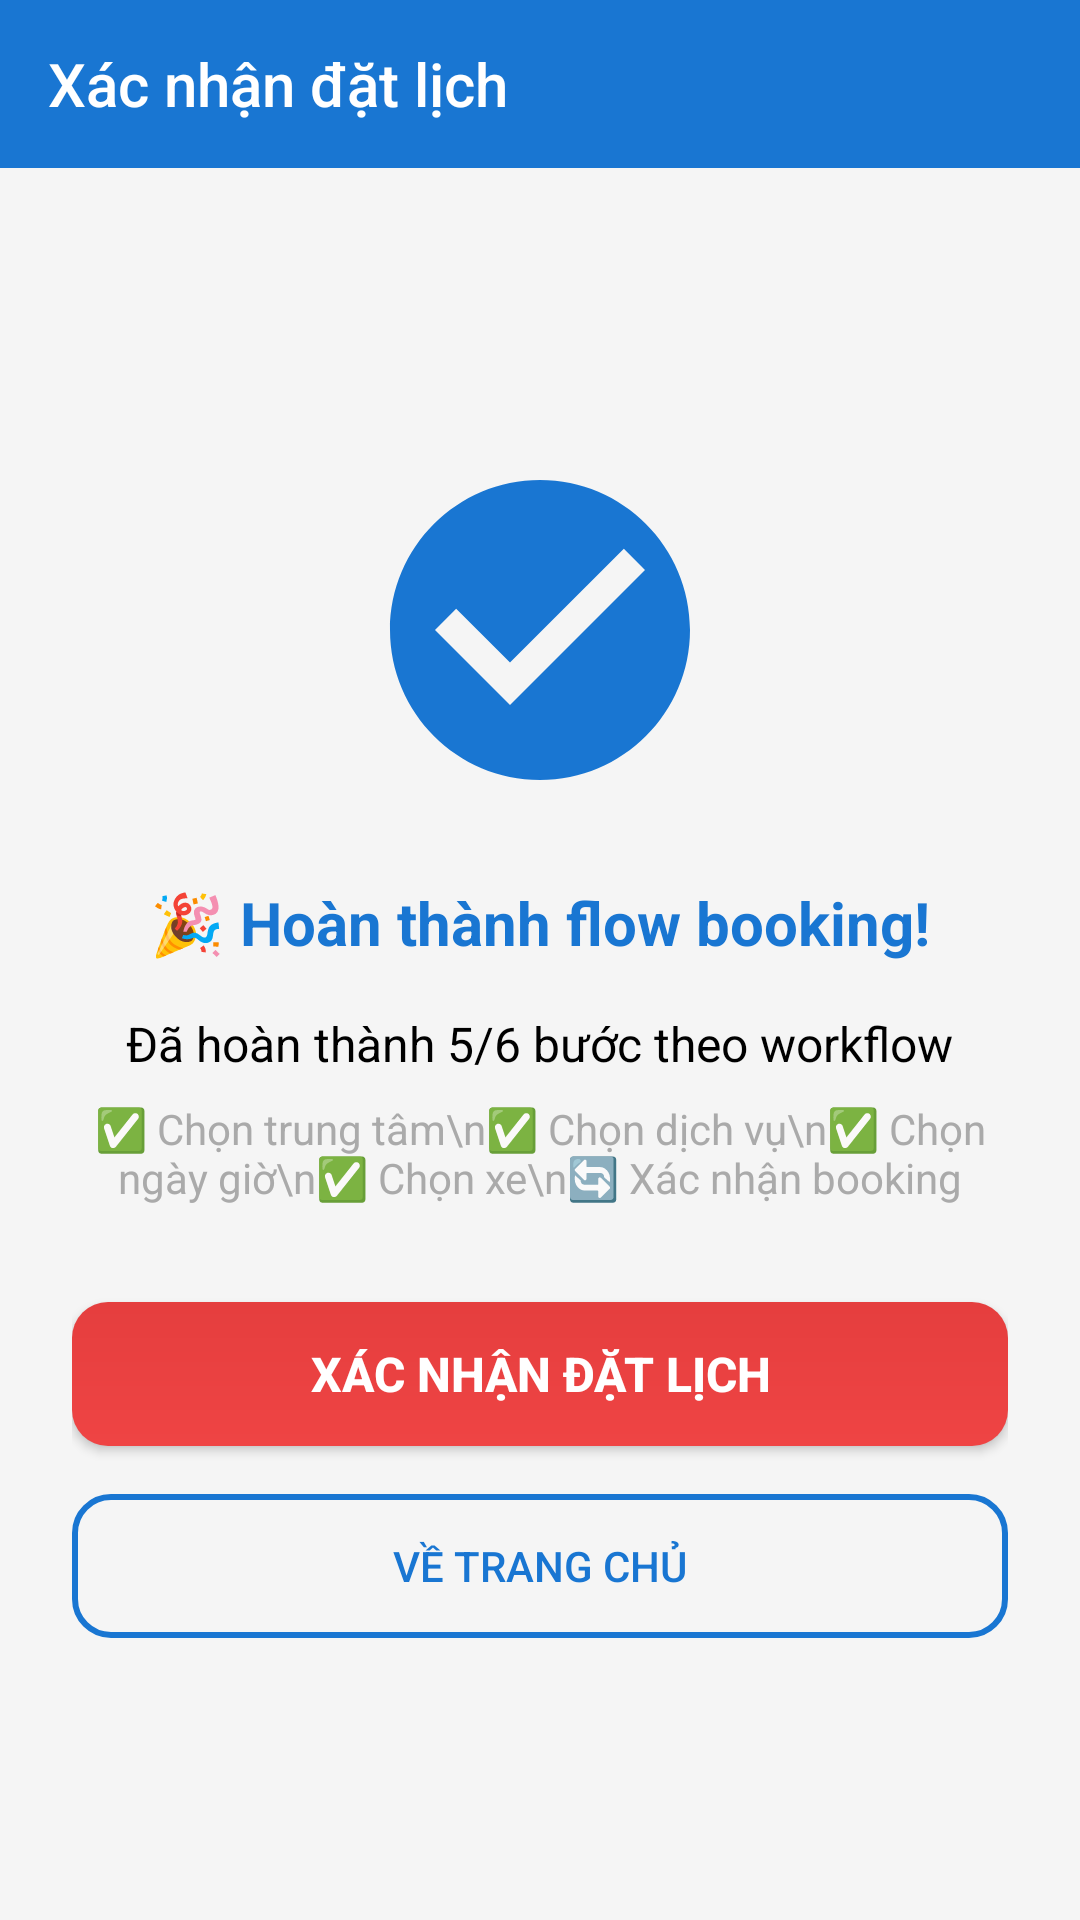

Icon bounding boxes for this 1080px x 1920px phone screenshot, format (x1, y1, x2, y2):
check circle: (390, 480, 690, 780)
